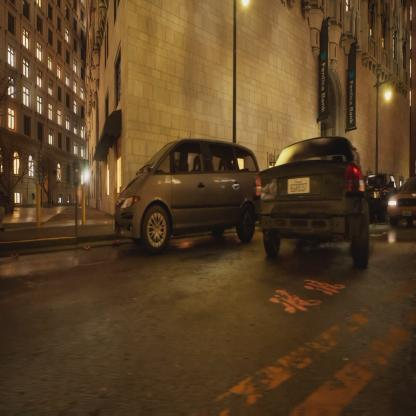License-Plate: (286, 177, 312, 196), (400, 207, 413, 218)
